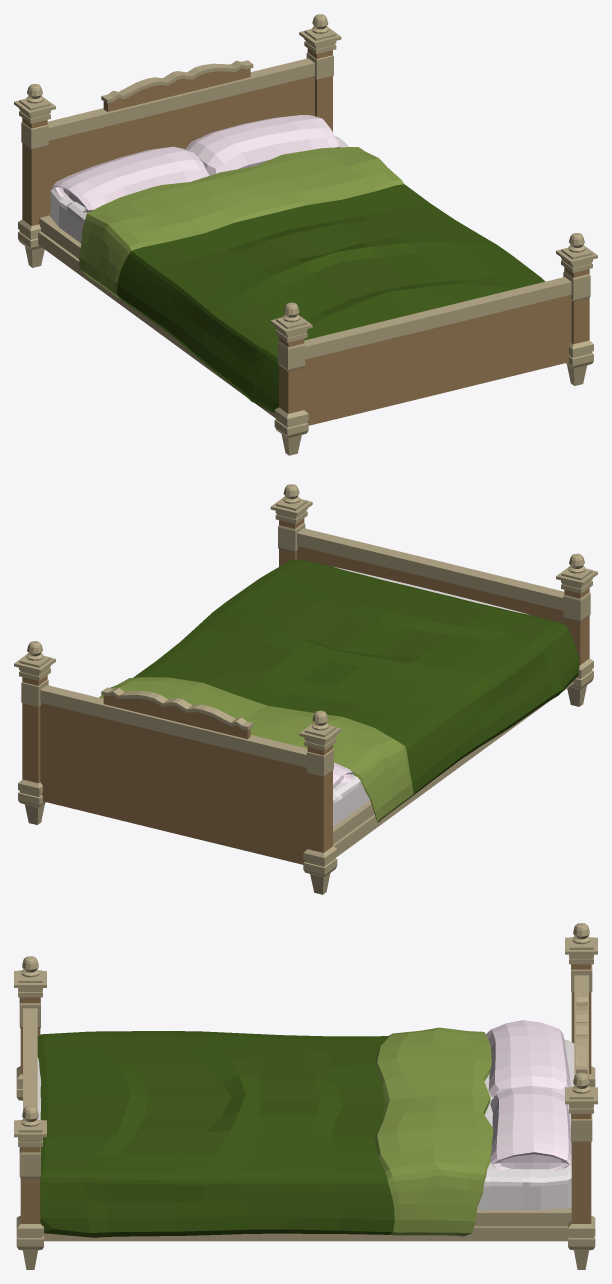
File: Bed-Double.glb
3 views of the same model, one above another, from view 1: azimuth 30°, elevation 25°; view 2: azimuth 150°, elevation 25°; view 3: azimuth 270°, elevation 25° (orthographic). The views are drawn at different scales.
Visible parts, largest first — view 1: Comforter, BedFrame, Pillow2, Pillow, Mattress; view 2: Comforter, BedFrame, Mattress; view 3: Comforter, BedFrame, Pillow2, Pillow, Mattress.
Boxes of the visible parts, x1=… form: Comforter: x1=79, y1=147, x2=545, y2=413; BedFrame: x1=14, y1=14, x2=597, y2=455; Pillow2: x1=185, y1=115, x2=339, y2=175; Pillow: x1=52, y1=146, x2=209, y2=212; Mattress: x1=50, y1=136, x2=348, y2=243; Comforter: x1=99, y1=559, x2=579, y2=822; BedFrame: x1=14, y1=484, x2=597, y2=894; Mattress: x1=333, y1=566, x2=528, y2=826; Comforter: x1=37, y1=1027, x2=493, y2=1237; BedFrame: x1=14, y1=923, x2=597, y2=1269; Pillow2: x1=490, y1=1087, x2=571, y2=1170; Pillow: x1=485, y1=1020, x2=570, y2=1097; Mattress: x1=37, y1=1039, x2=574, y2=1210.
Size of the model in its own units: 2.83 by 1.56 by 4.26.
